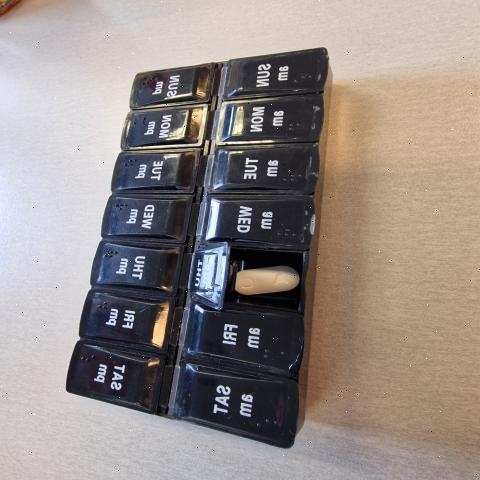Open: (207, 244, 306, 311)
